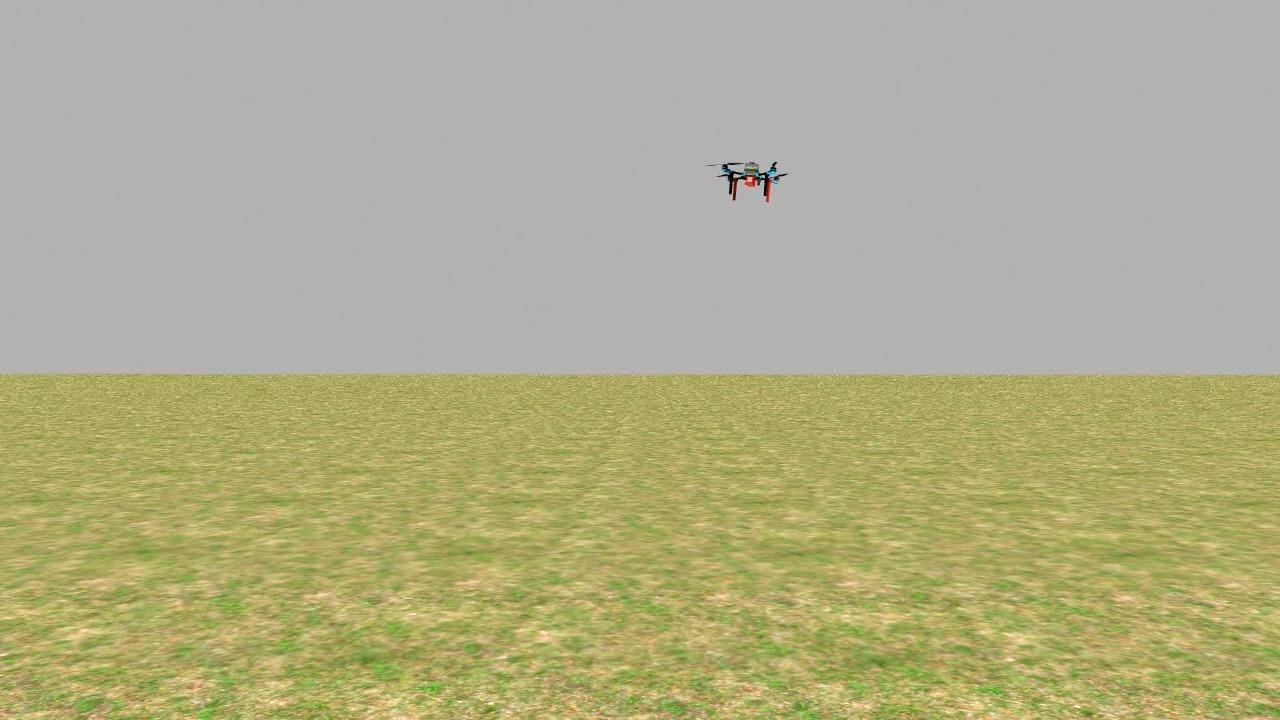UAV: (699, 136, 799, 214)
